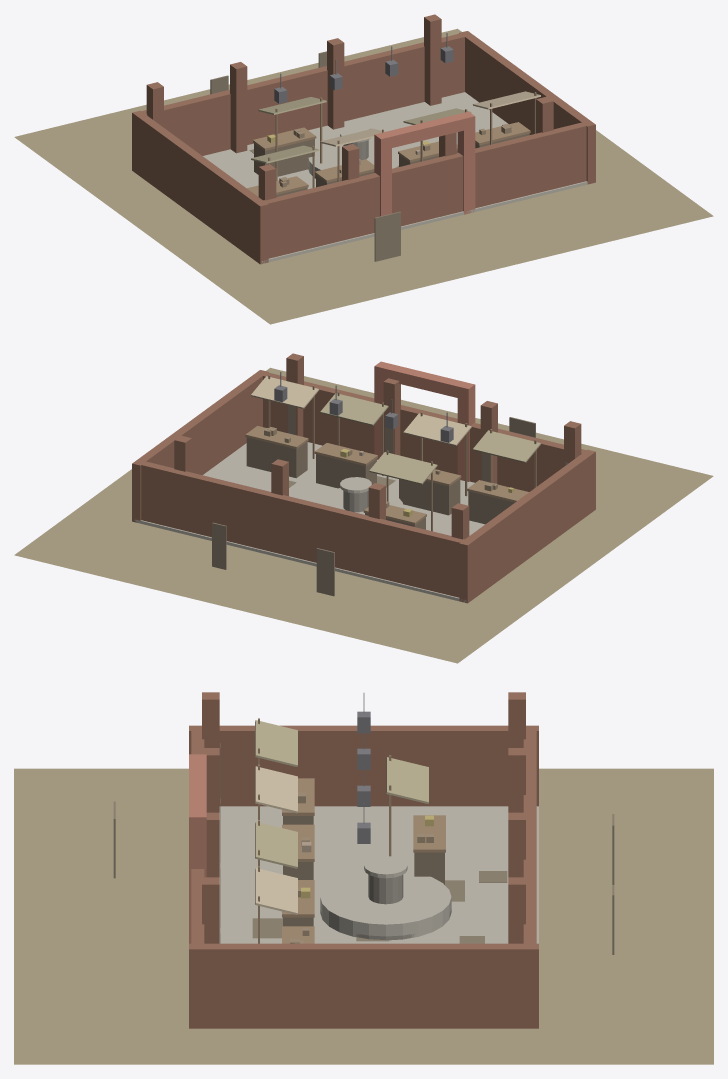
The model's file is grand_bazaar.glb.
3 views of the same model, one above another, from view 1: azimuth 30°, elevation 25°; view 2: azimuth 150°, elevation 25°; view 3: azimuth 270°, elevation 25° (orthographic). The views are drawn at different scales.
Visible parts, largest first — view 1: Ground, Wall_N, Wall_S, Wall_W, Bazaar_Floor, Wall_E, Gate_Arch, Pillar_5, Pillar_7, Pillar_6, Gate_Post_R, Stall_4_Counter (+14 smaller); view 2: Ground, Wall_S, Wall_W, Wall_N, Wall_E, Bazaar_Floor, Gate_Arch, Stall_3_Counter, Stall_1_Counter, Stall_4_Awning, Stall_0_Awning, Stall_2_Counter (+21 smaller); view 3: Ground, Wall_E, Bazaar_Floor, Wall_W, Fountain_Rim, Wall_S, Stall_1_Awning, Stall_2_Awning, Stall_3_Awning, Stall_4_Awning, Stall_0_Awning, Gate_Arch (+18 smaller).
Boxes of the visible parts, x1,y1,x2,y2 form: Ground: [14, 28, 713, 324]; Wall_N: [256, 121, 592, 258]; Wall_S: [135, 32, 471, 155]; Wall_W: [132, 110, 268, 264]; Bazaar_Floor: [203, 92, 587, 263]; Wall_E: [459, 31, 595, 184]; Gate_Arch: [374, 111, 475, 150]; Pillar_5: [230, 62, 247, 153]; Pillar_7: [424, 14, 441, 105]; Pillar_6: [327, 38, 344, 129]; Gate_Post_R: [457, 125, 475, 214]; Stall_4_Counter: [254, 139, 314, 176]; Ground: [14, 367, 713, 663]; Wall_S: [135, 460, 471, 597]; Wall_W: [459, 449, 595, 603]; Wall_N: [257, 371, 592, 491]; Wall_E: [132, 370, 268, 522]; Bazaar_Floor: [134, 442, 484, 602]; Gate_Arch: [374, 361, 475, 400]; Stall_3_Counter: [246, 437, 307, 478]; Stall_1_Counter: [399, 479, 460, 515]; Stall_4_Awning: [369, 452, 437, 484]; Stall_0_Awning: [473, 430, 540, 462]; Stall_2_Counter: [316, 454, 376, 488]; Ground: [14, 768, 713, 1064]; Wall_E: [189, 943, 538, 1028]; Bazaar_Floor: [219, 806, 538, 943]; Wall_W: [189, 725, 538, 806]; Fountain_Rim: [320, 871, 451, 939]; Wall_S: [523, 726, 536, 948]; Stall_1_Awning: [255, 766, 297, 813]; Stall_2_Awning: [255, 822, 297, 868]; Stall_3_Awning: [255, 868, 297, 914]; Stall_4_Awning: [386, 757, 428, 803]; Stall_0_Awning: [255, 720, 297, 766]; Gate_Arch: [189, 754, 206, 832].
Bounding box in the file's own units: 16 × 4.25 × 16.
